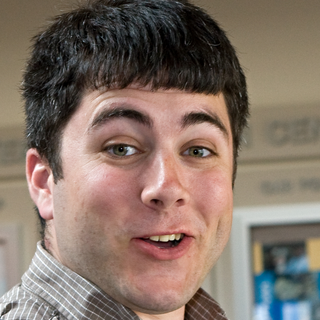eye: (97, 136, 146, 163), (176, 139, 221, 164)
